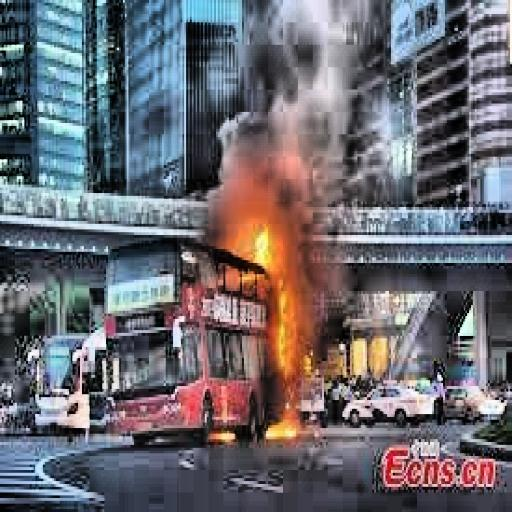fire: (237, 221, 309, 378), (203, 400, 240, 453), (253, 408, 298, 448)
